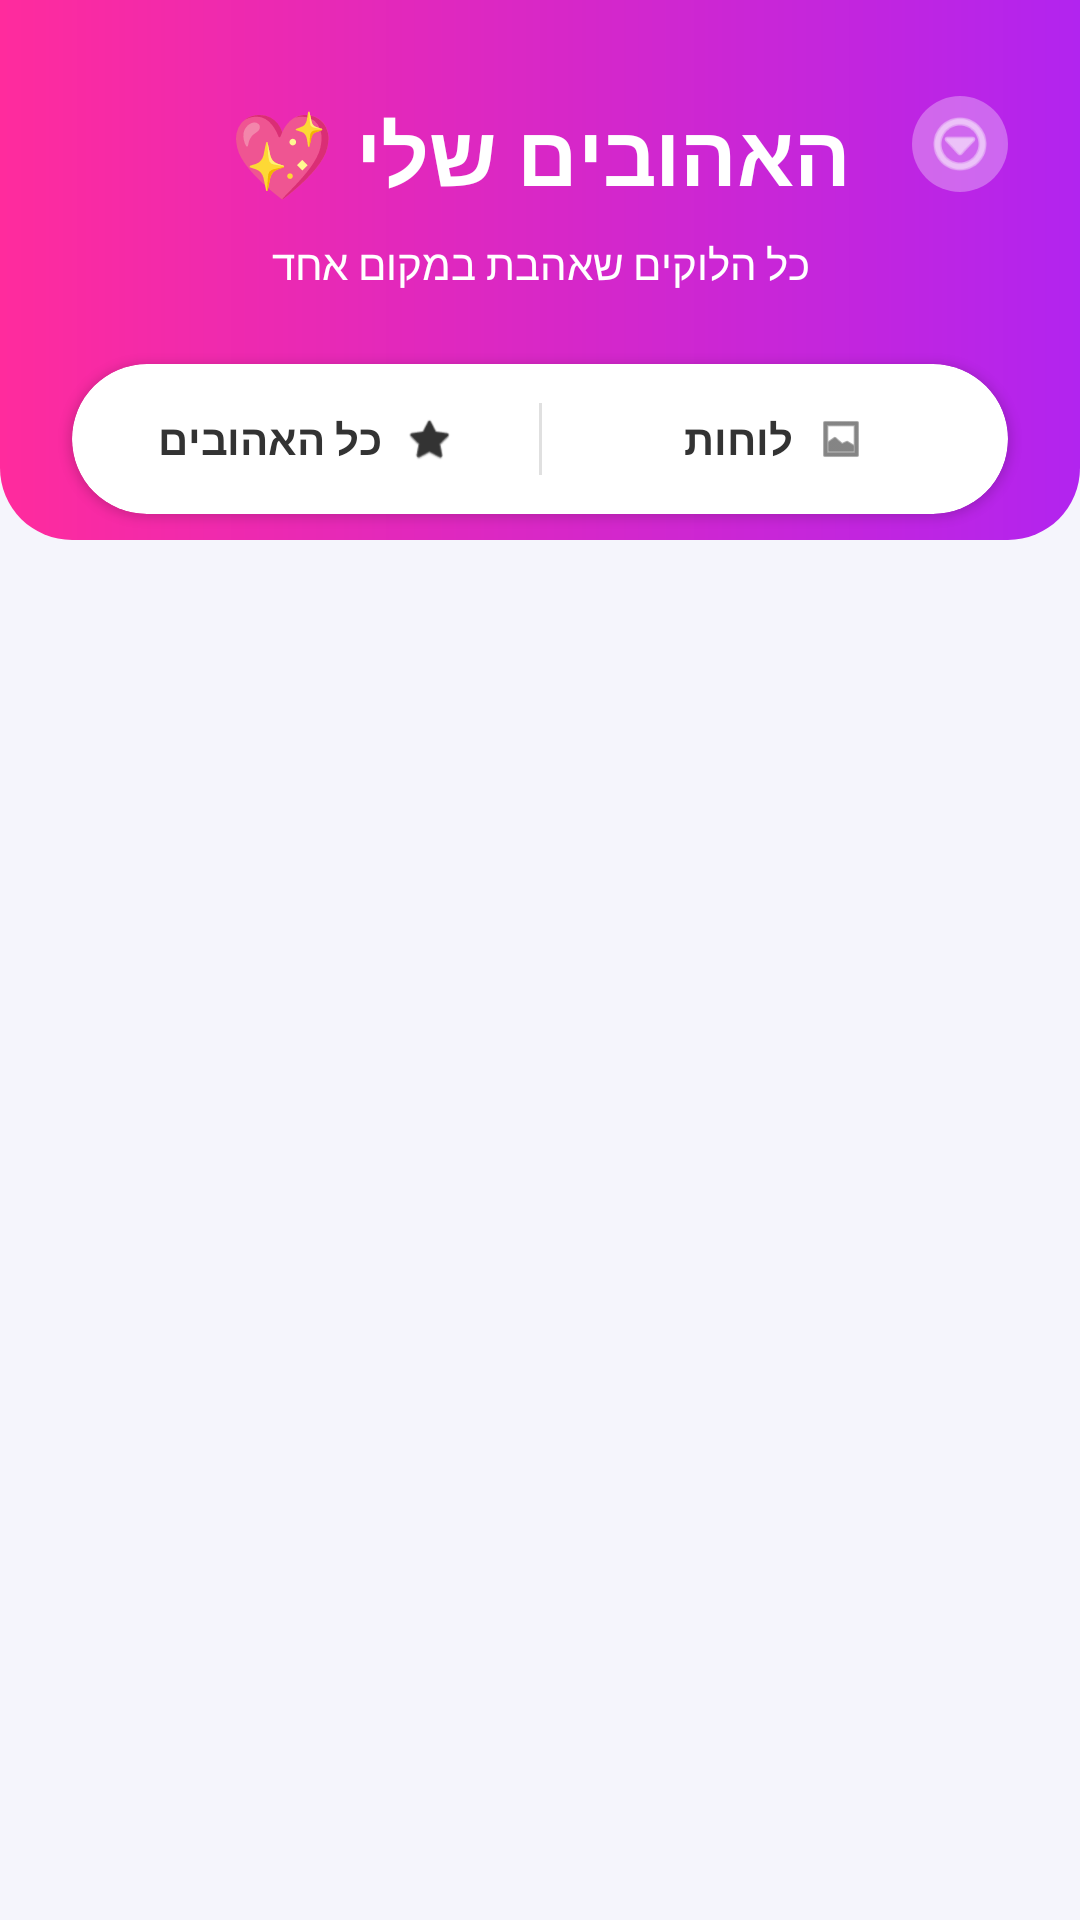

Icon click points for this 1080 × 1920 phone screenshot, format point (x, y):
gallery: point (841, 439)
more: point (960, 144)
star on: point (429, 439)
